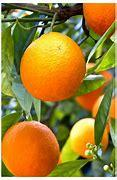orange: (4, 117, 75, 170), (17, 32, 76, 92), (72, 114, 117, 162), (80, 0, 117, 42)
